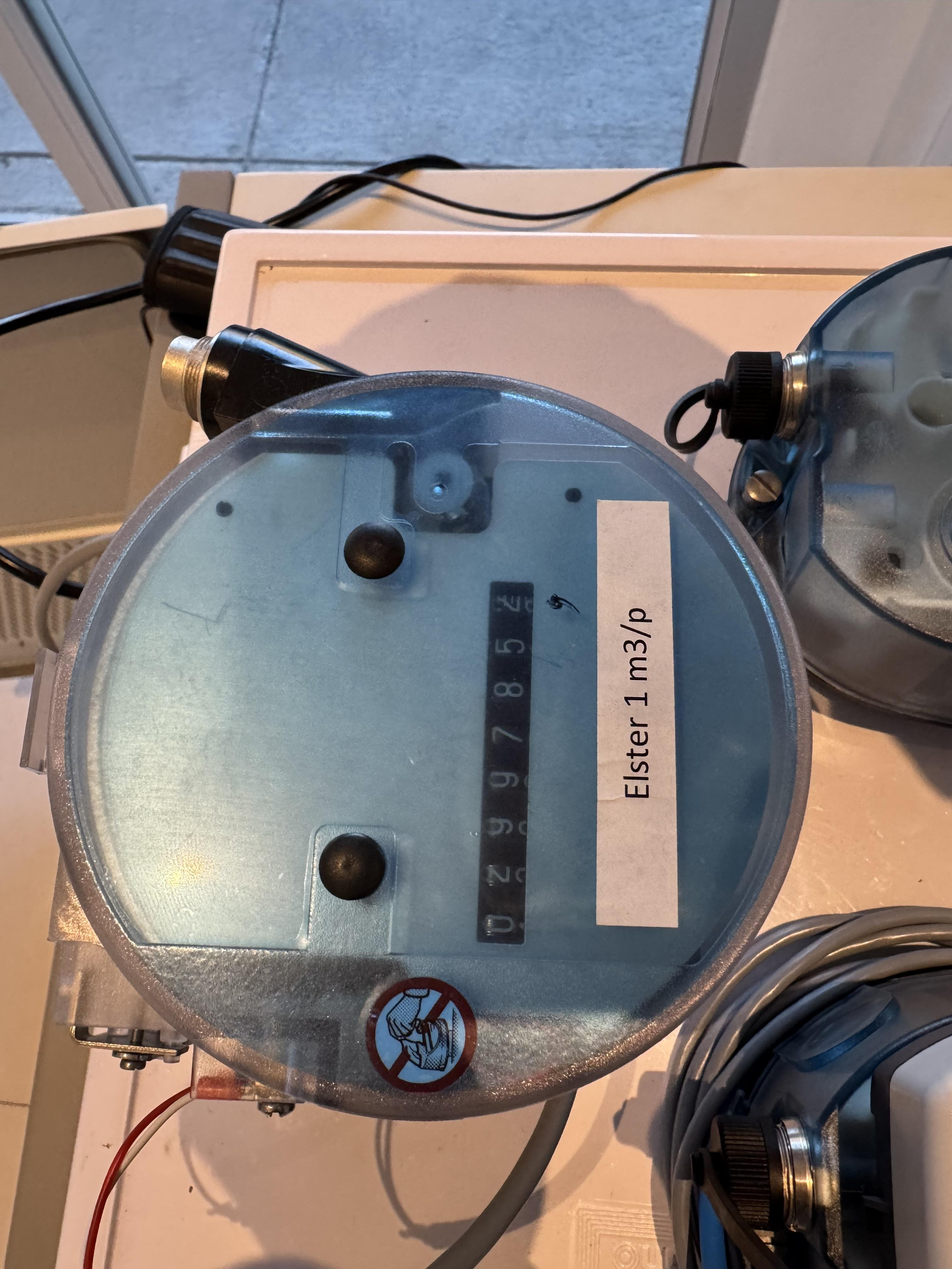analog_dial: (473, 577, 568, 950)
